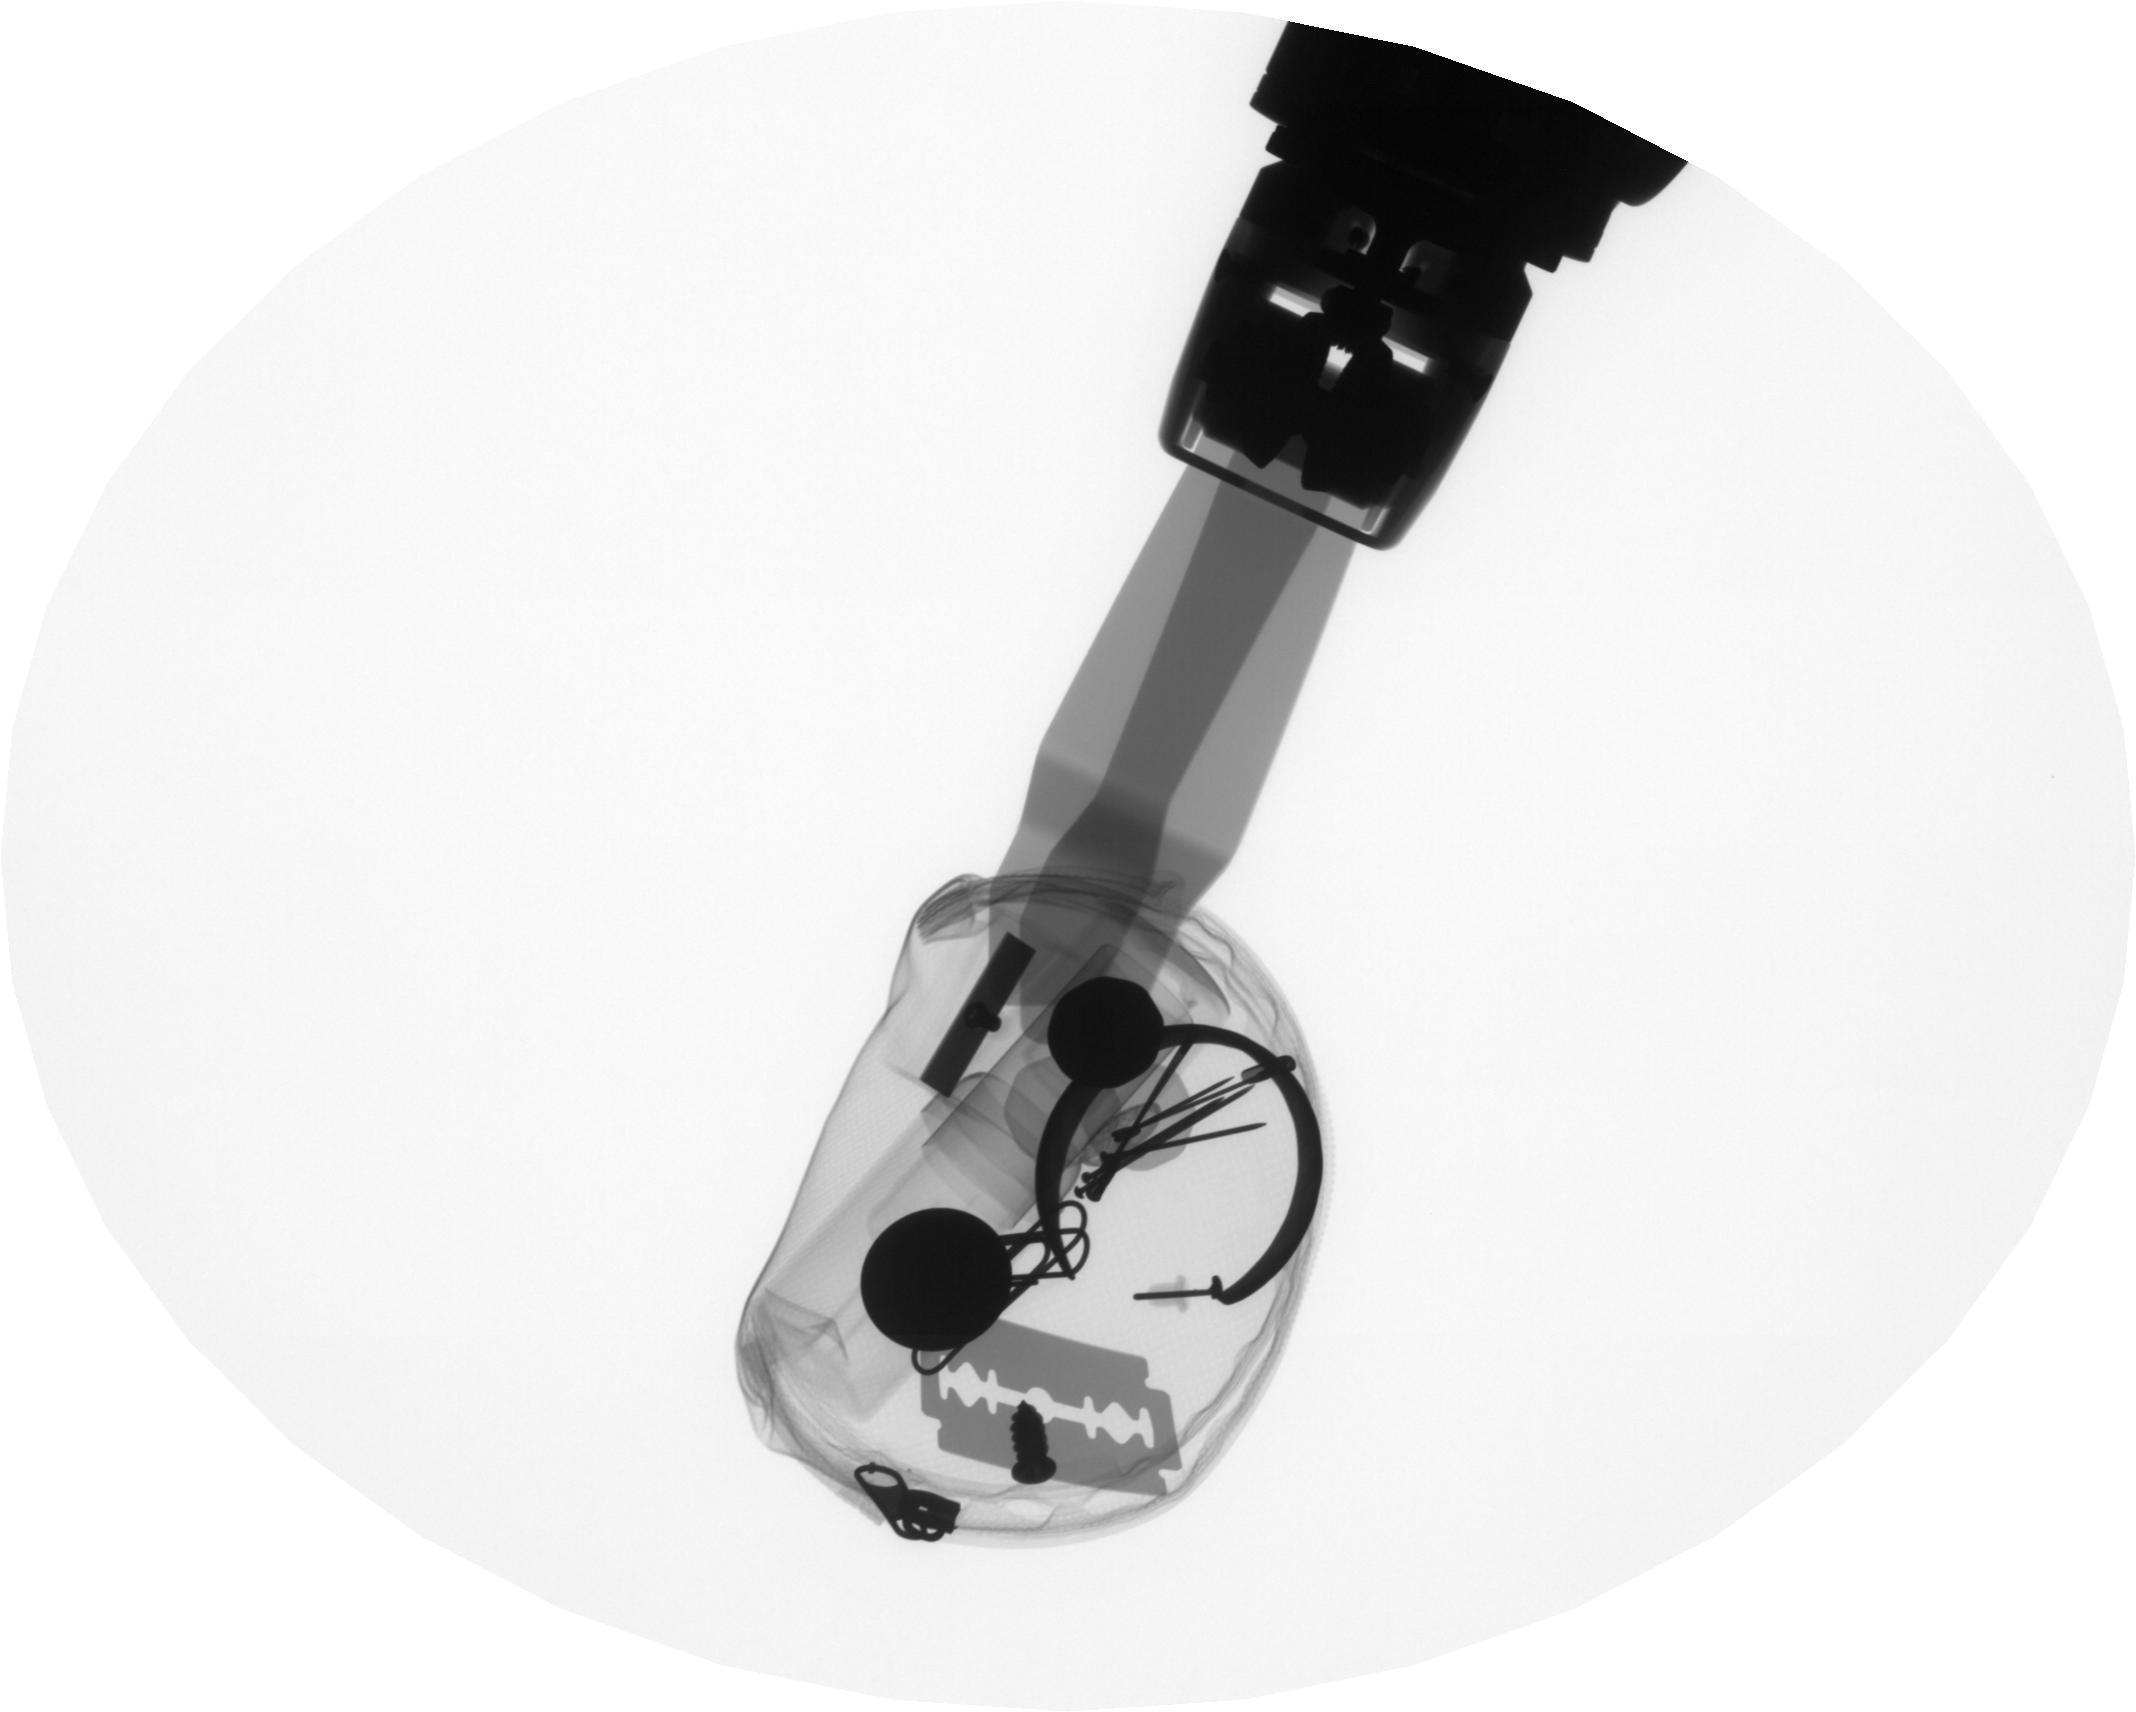RazorBlade: (910, 1302, 1189, 1510)
